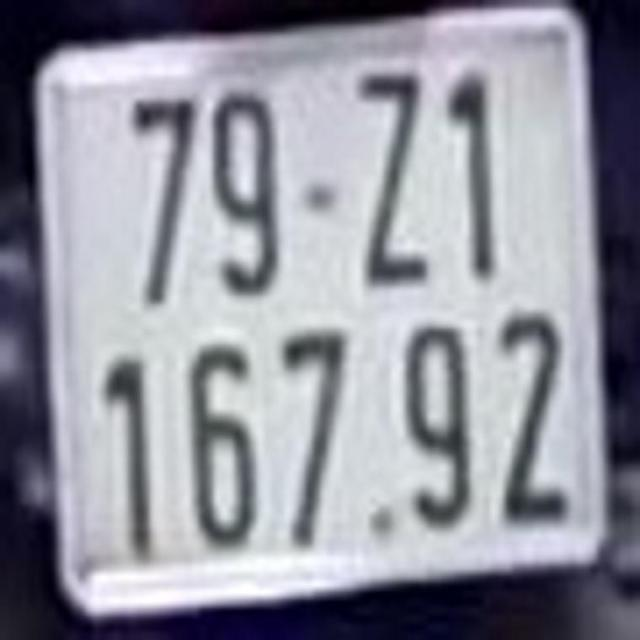1: (446, 66, 502, 273), (104, 356, 152, 556)
2: (500, 310, 574, 524)
6: (188, 342, 258, 548)
7: (131, 95, 199, 308), (280, 331, 343, 543)
9: (401, 320, 475, 525), (210, 90, 282, 292)
Z: (356, 66, 432, 285)
